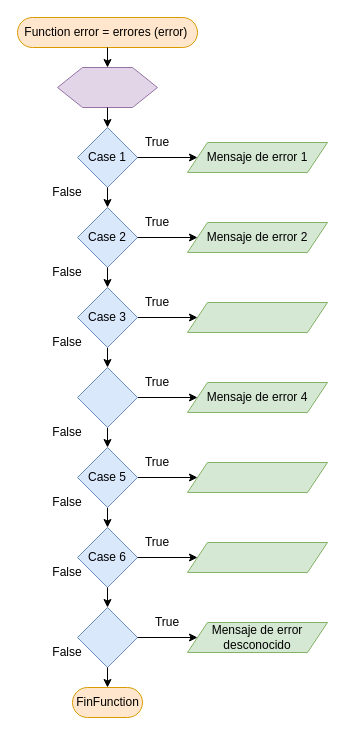
The diagram is 345 pixels wide and 735 high, and some of its shapes have lost their labels. Each missing label, with the box of its shape:
Case 4: (76, 366, 138, 428)
Default: (76, 606, 138, 668)
error: (56, 66, 158, 108)
Mensaje de error 3: (186, 302, 328, 332)
Mensaje de error 5: (186, 462, 328, 492)
Mensaje de error 6: (186, 542, 328, 572)
